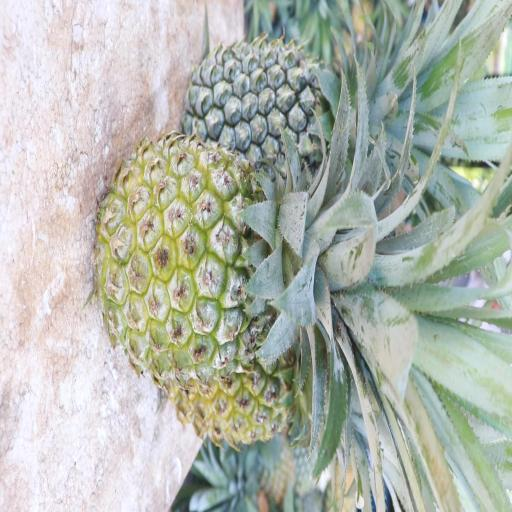------------------------------: (90, 132, 376, 384)
